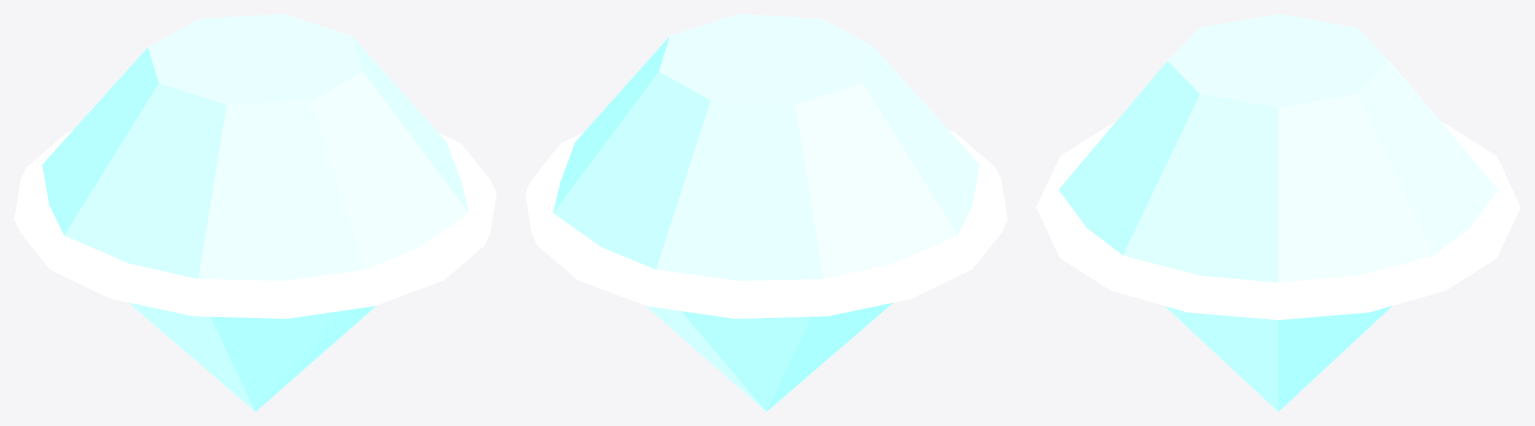
The model's file is crystal3.glb.
The picture shows the model from 3 angles, left to right: view 1: azimuth 30°, elevation 25°; view 2: azimuth 150°, elevation 25°; view 3: azimuth 270°, elevation 25°; orthographic projection.
Parts seen in each view (by area): view 1: JewelCrown, JewelGirdle, JewelPavilion; view 2: JewelCrown, JewelGirdle, JewelPavilion; view 3: JewelCrown, JewelGirdle, JewelPavilion.
Part boxes in pixels (x1=…): JewelCrown: x1=42, y1=14, x2=468, y2=280; JewelGirdle: x1=14, y1=130, x2=496, y2=318; JewelPavilion: x1=49, y1=182, x2=461, y2=411; JewelCrown: x1=553, y1=14, x2=979, y2=280; JewelGirdle: x1=525, y1=130, x2=1007, y2=318; JewelPavilion: x1=560, y1=182, x2=972, y2=411; JewelCrown: x1=1058, y1=14, x2=1498, y2=282; JewelGirdle: x1=1036, y1=123, x2=1520, y2=319; JewelPavilion: x1=1165, y1=306, x2=1391, y2=411.
Bounding box in the file's own units: 1.92 × 1.54 × 1.92.
